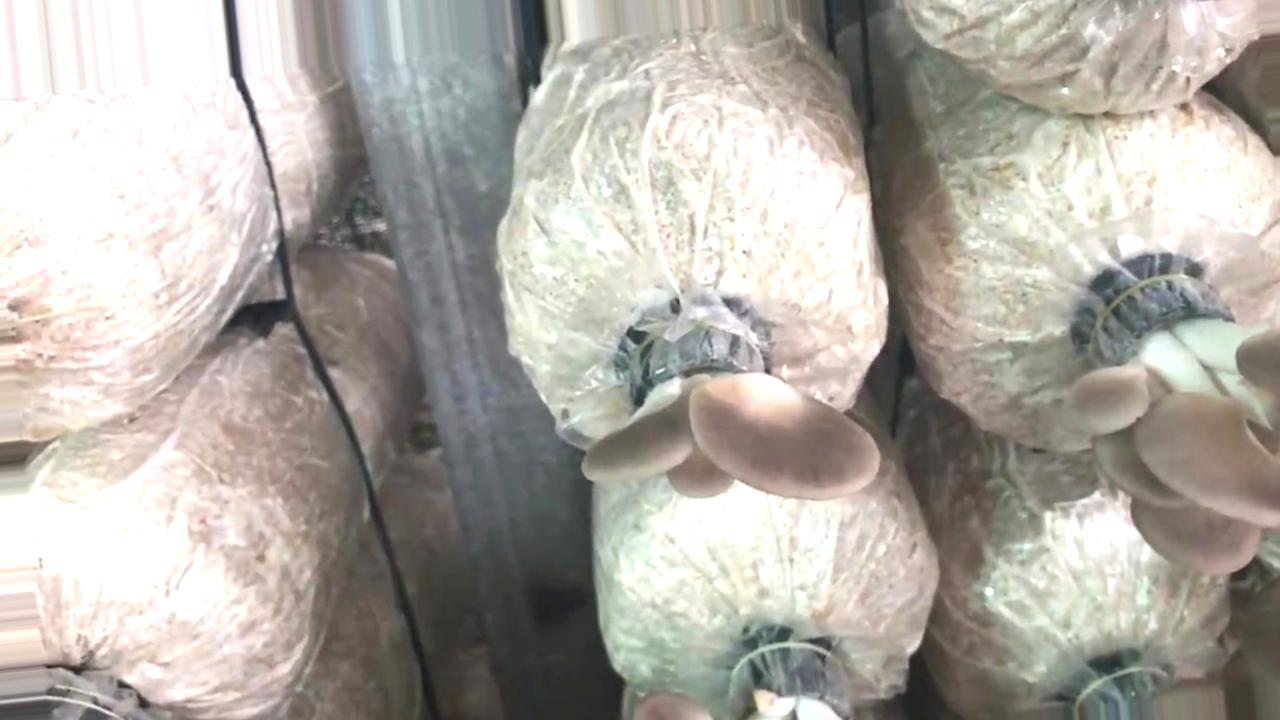nam: (1081, 289, 1280, 576), (585, 325, 861, 503)
